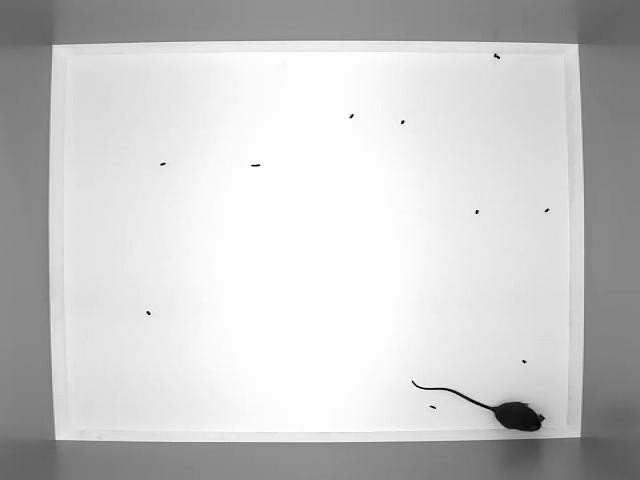Tikus: (401, 375, 554, 434)
